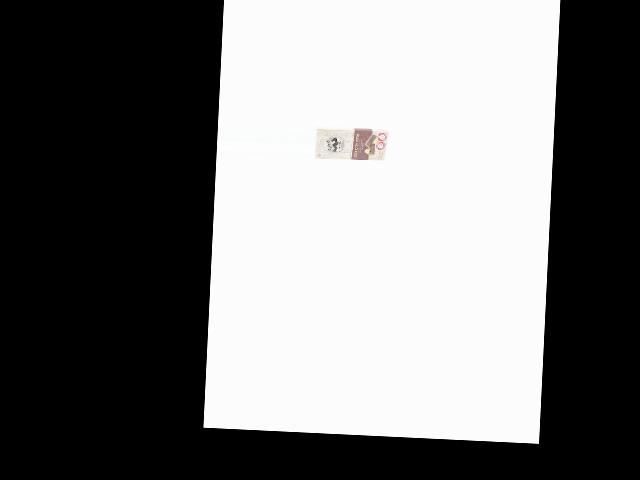chocolate: (314, 120, 390, 163)
